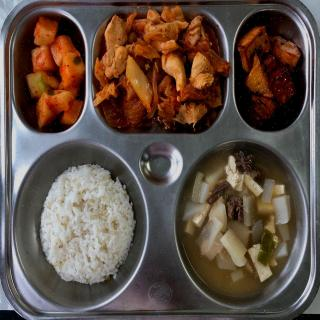Nasi: (41, 168, 135, 287)
